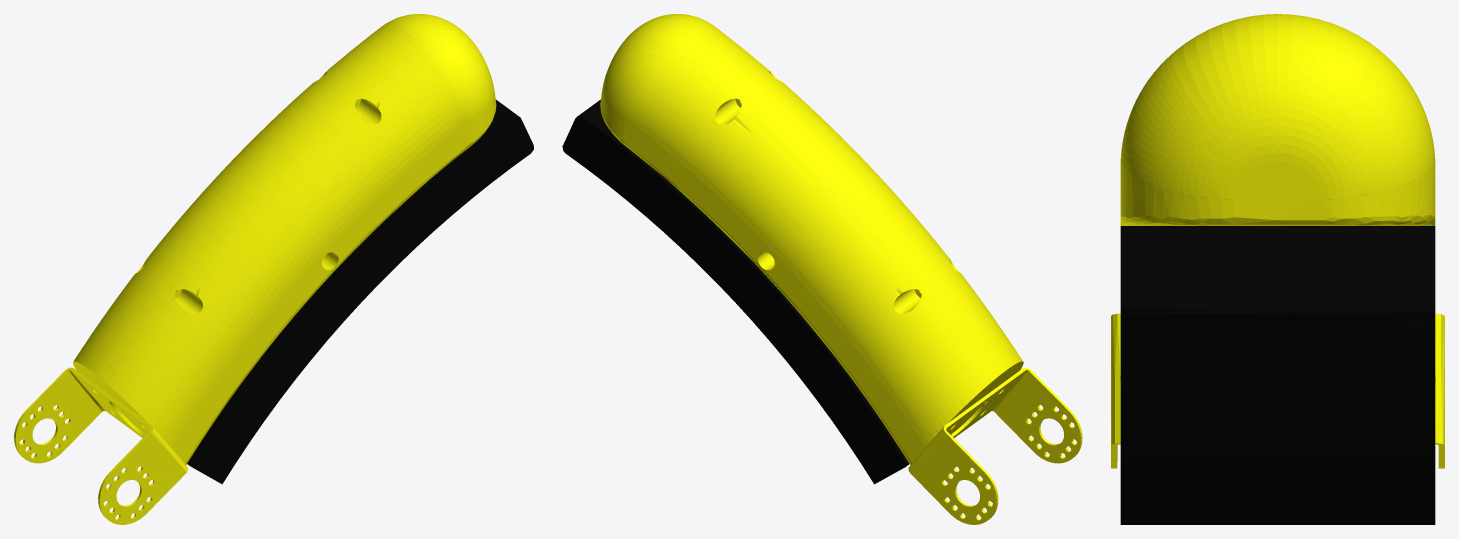
Rendered from hand_left_simple_mini.dae.
3 renders of one model, left to right at view 1: azimuth 30°, elevation 25°; view 2: azimuth 150°, elevation 25°; view 3: azimuth 270°, elevation 25°, orthographic. The views are drawn at different scales.
Parts seen in each view (by area): view 1: node; view 2: node; view 3: node.
Part boxes in pixels (x1,y1,x2,y2): node: (14, 14, 533, 524); node: (562, 14, 1082, 524); node: (1111, 14, 1444, 524).
Size of the model in its own units: 15.61 by 13.29 by 5.3.
Materials: 1 (1 with a texture image).
